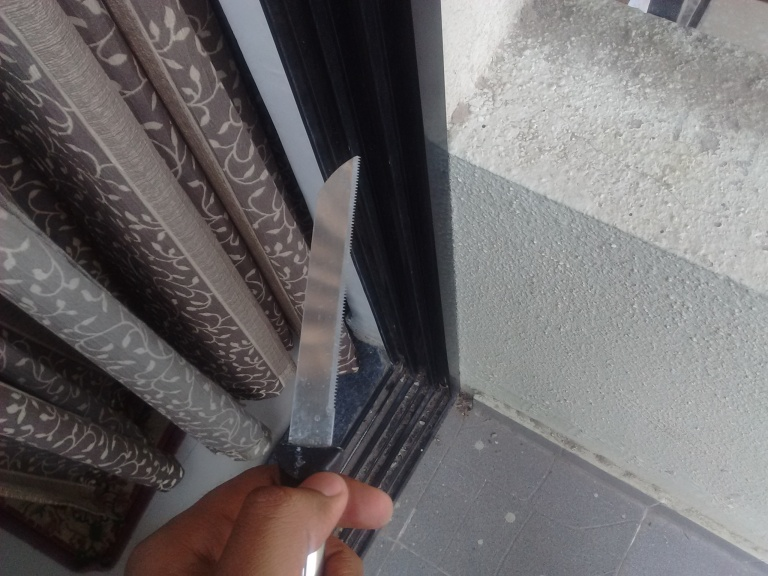knife: (269, 155, 357, 480)
